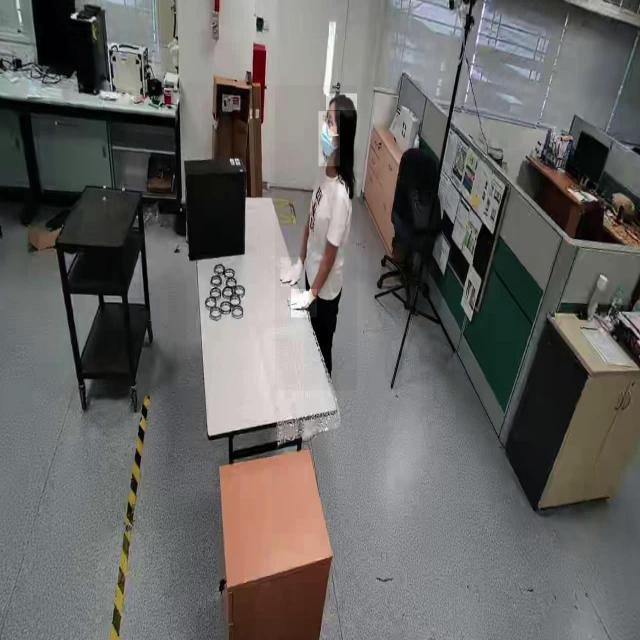face_mask: (318, 111, 340, 166)
hand_glove: (291, 289, 317, 318), (281, 257, 305, 287)
head_nohelmet: (326, 93, 358, 111)
person: (275, 85, 357, 391)
